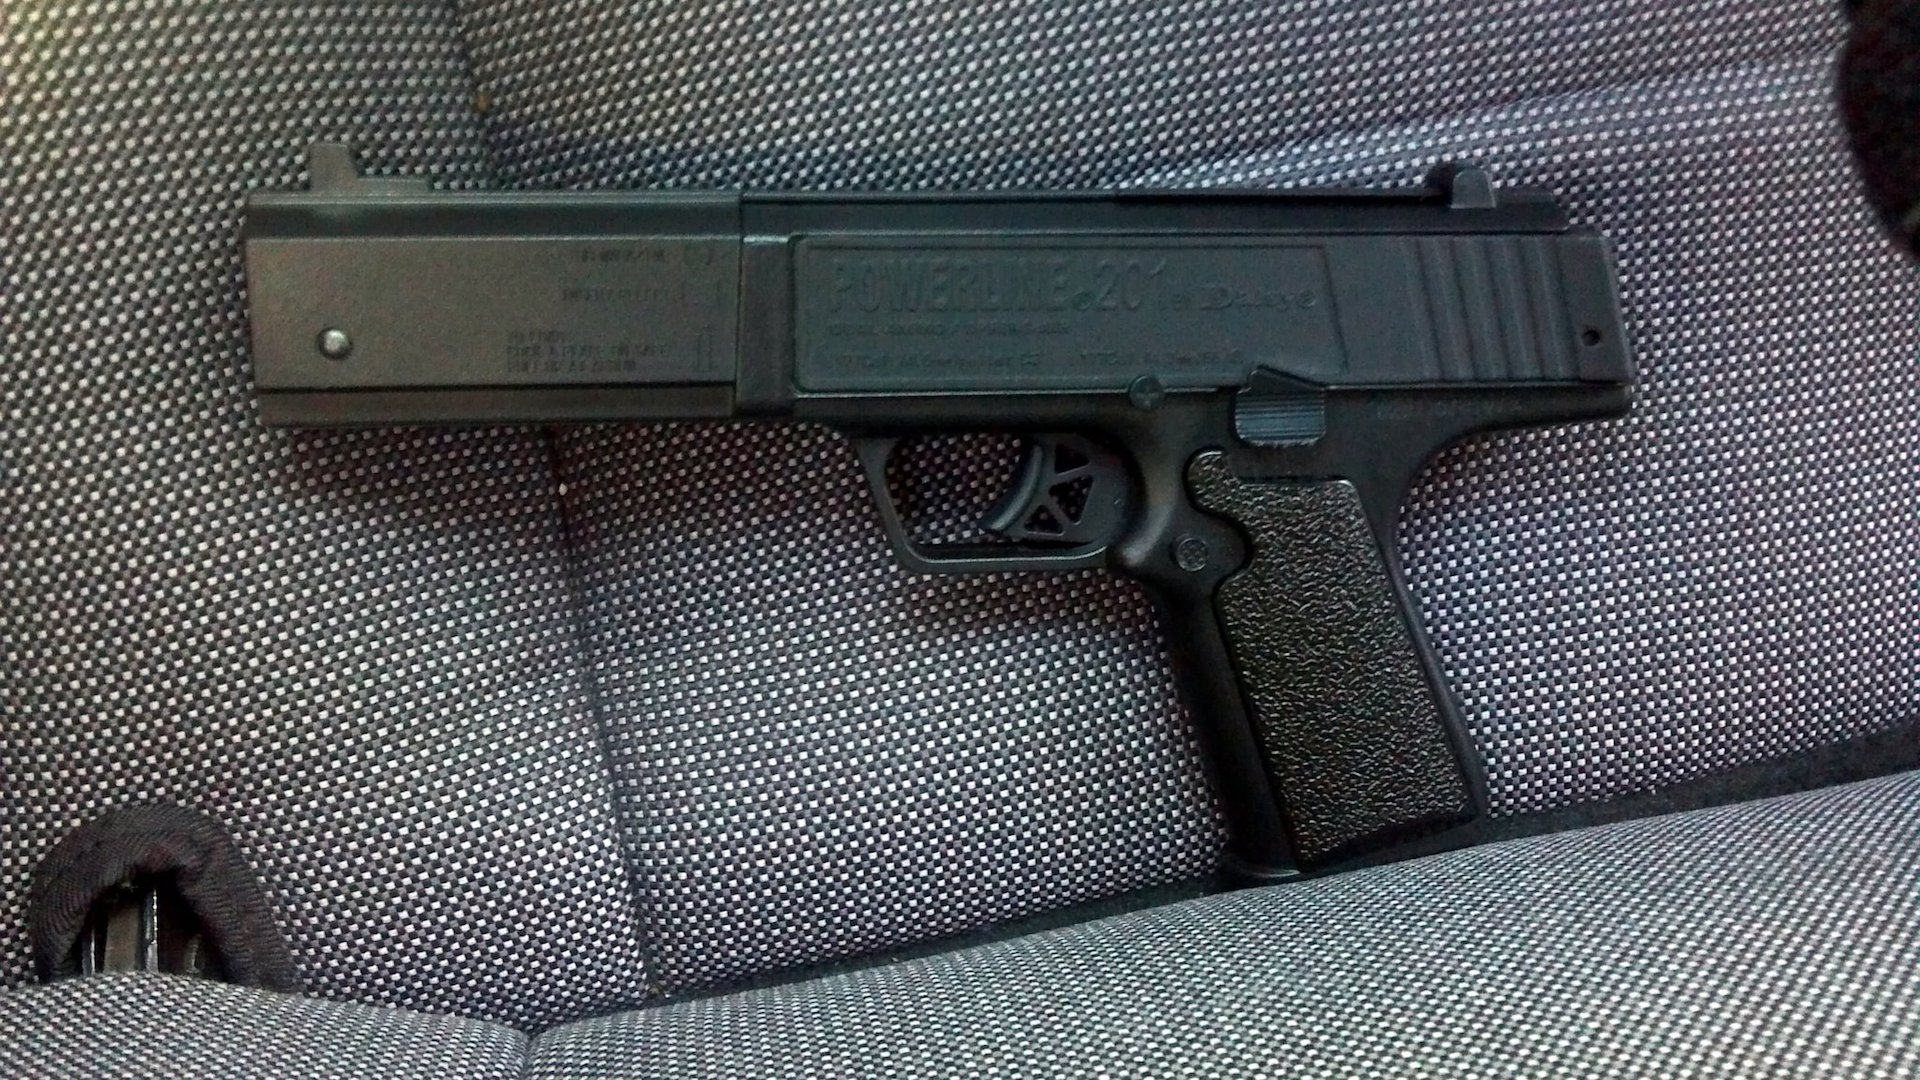pistol: (235, 133, 1640, 887)
